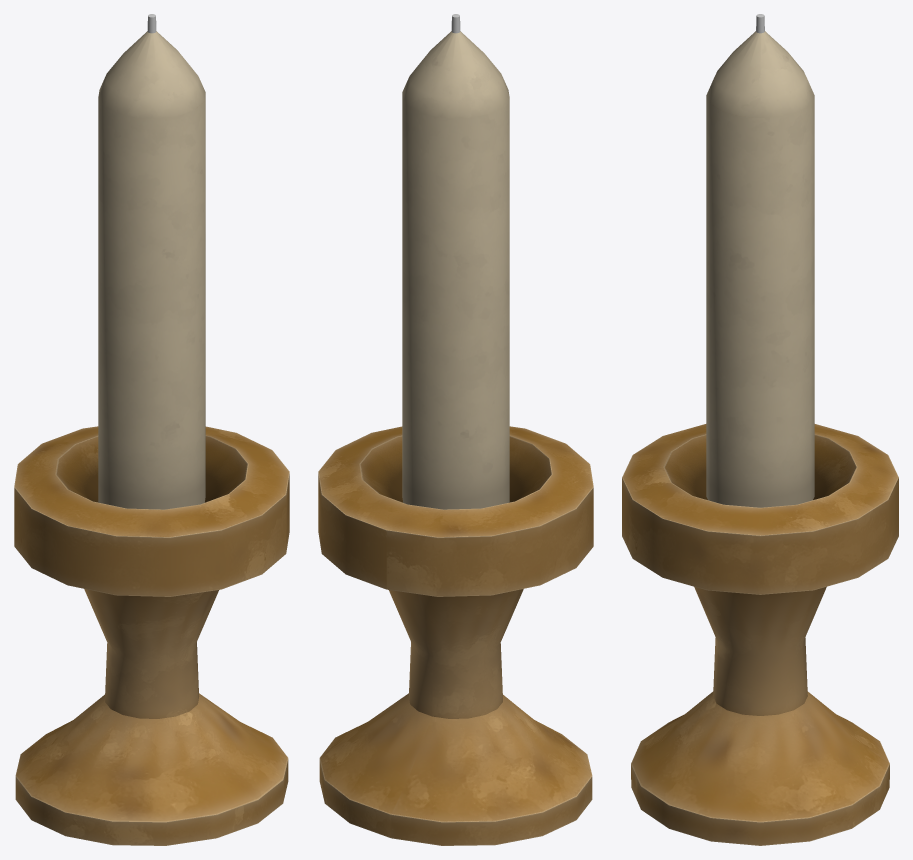
Rendered from Candle.fbx.
3 renders of one model, left to right at view 1: azimuth 30°, elevation 25°; view 2: azimuth 150°, elevation 25°; view 3: azimuth 270°, elevation 25°, orthographic.
Visible parts, largest first — view 1: Plato; view 2: Plato; view 3: Plato.
Boxes of the visible parts, <box> form: Plato: <box>14,14,289,845</box>; Plato: <box>318,14,593,845</box>; Plato: <box>622,14,898,845</box>.
Bounding box in the file's own units: 95.15 × 292 × 94.81.
